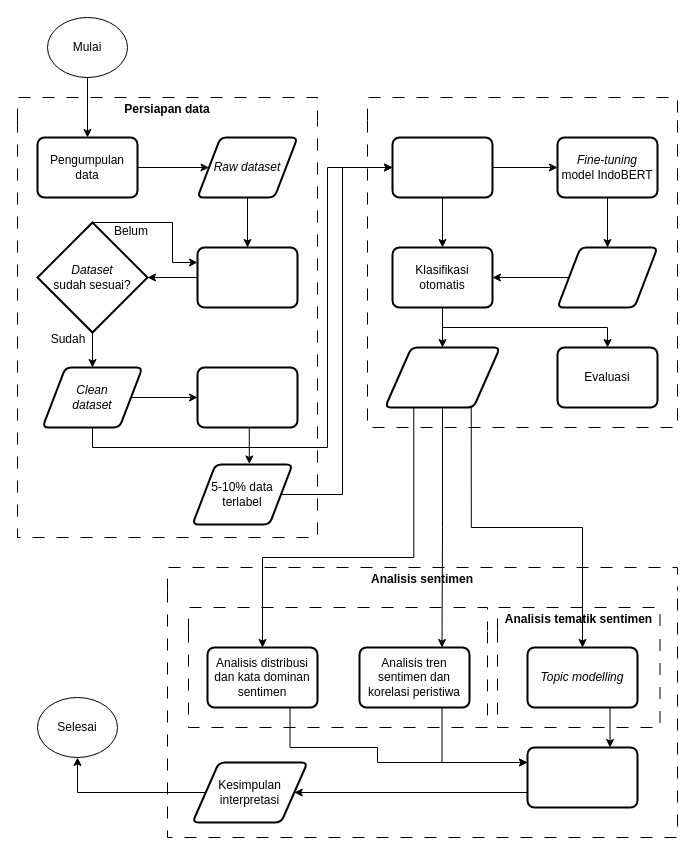
The diagram is 695 pixels wide and 855 high, and some of its shapes have lost their labels. Each missing label, with the box of its shape:
Analisis deskriptif temporal & laju perubahan: (188, 606, 488, 728)
Dataset terklasifikasi: (384, 346, 500, 408)
Interpretasi: (526, 746, 638, 808)
Klasifikasi sentimen: (366, 96, 678, 428)
Model hasil fine-tuning: (556, 246, 658, 308)
Pelabelan manual: (196, 366, 298, 428)
Preprocessing: (196, 246, 298, 308)
Tokenisasi: (391, 136, 493, 198)
